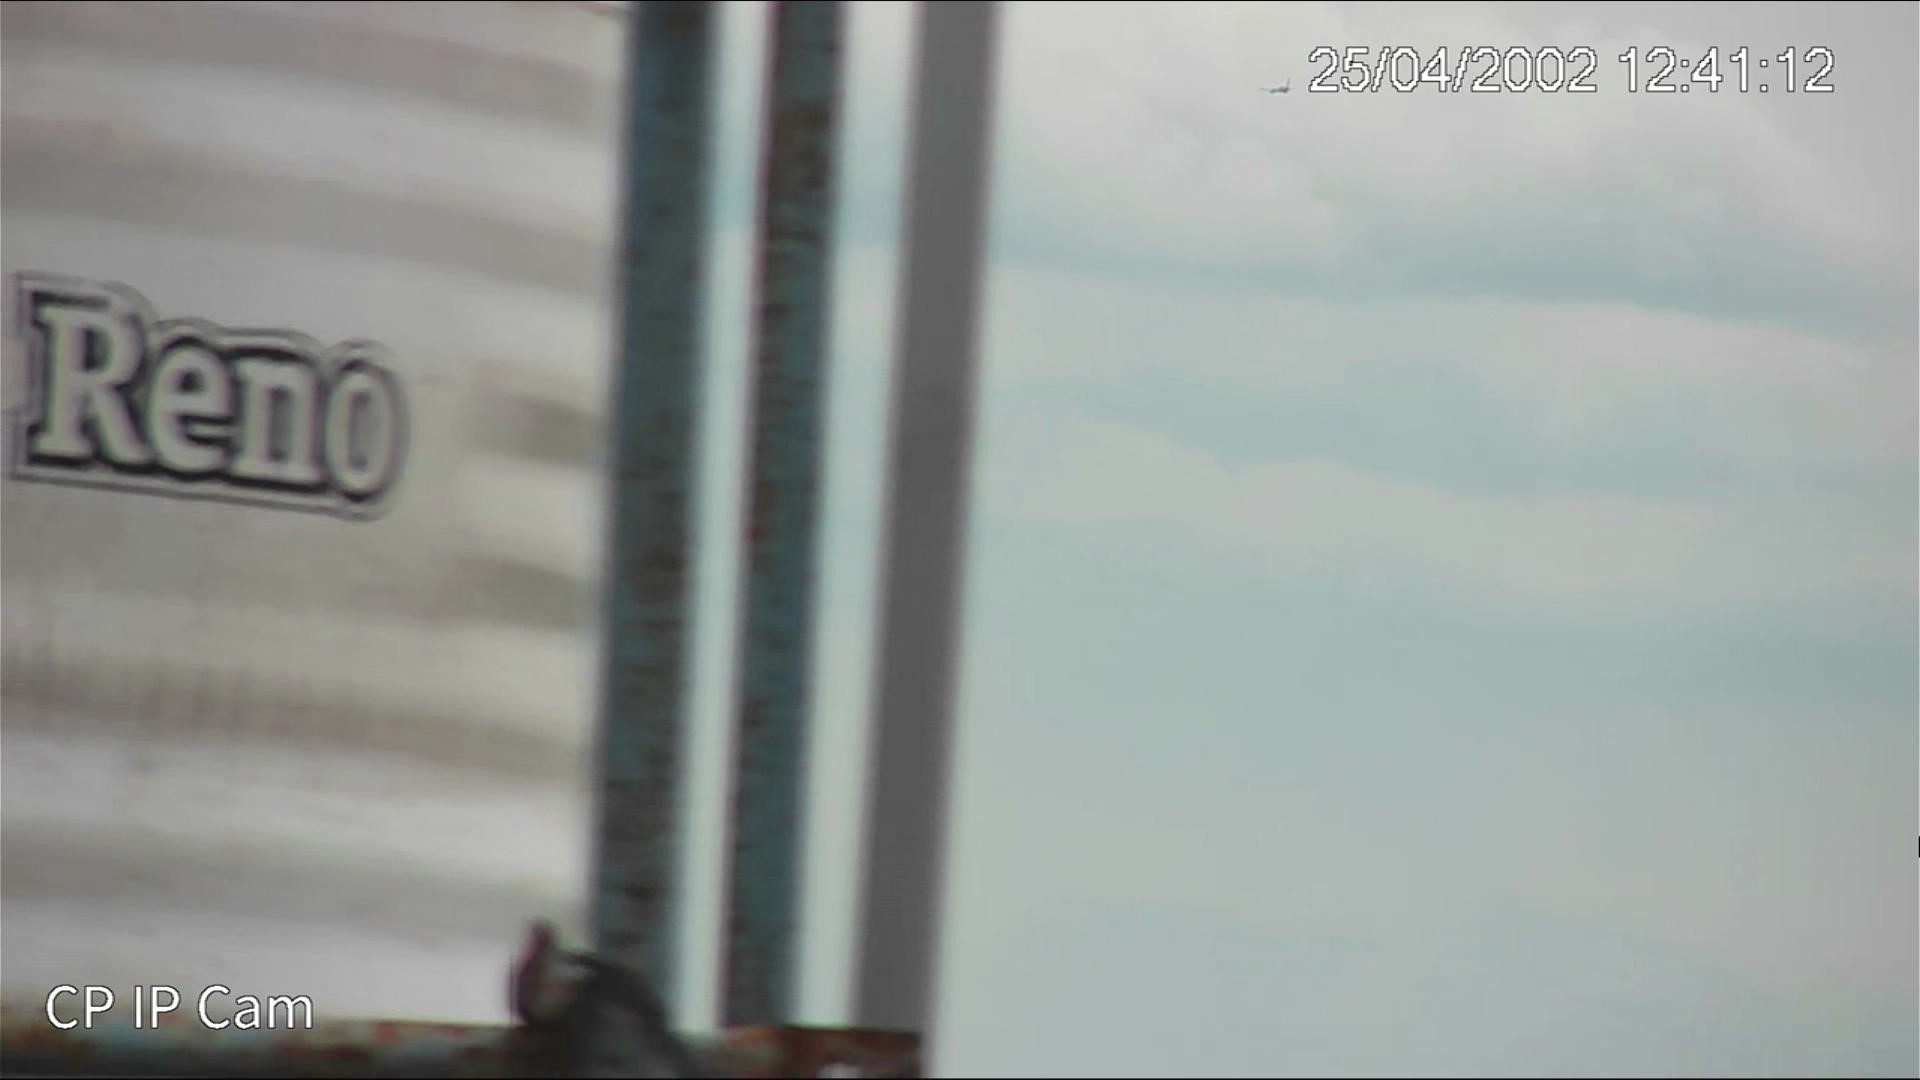SU_30: (1261, 79, 1292, 98)
